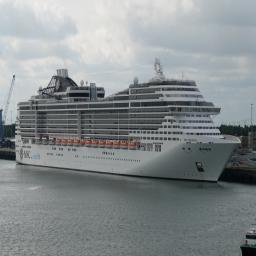cruises: (14, 56, 244, 189)
